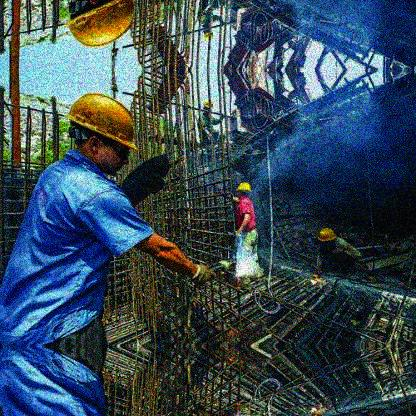helmet: (64, 93, 138, 176), (235, 180, 252, 199)
